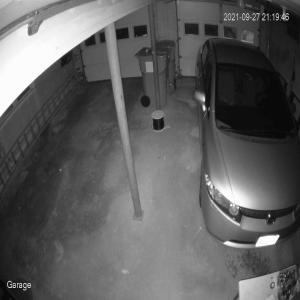garbage bin: (134, 39, 177, 107)
honda civic: (193, 37, 300, 250)
